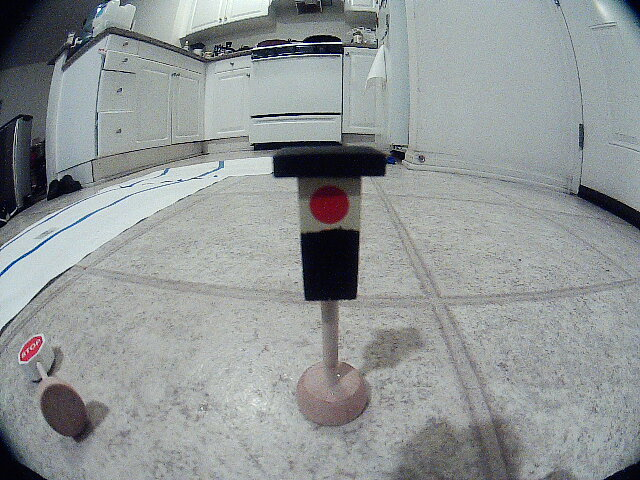Red Traffic Light: (242, 126, 423, 326)
